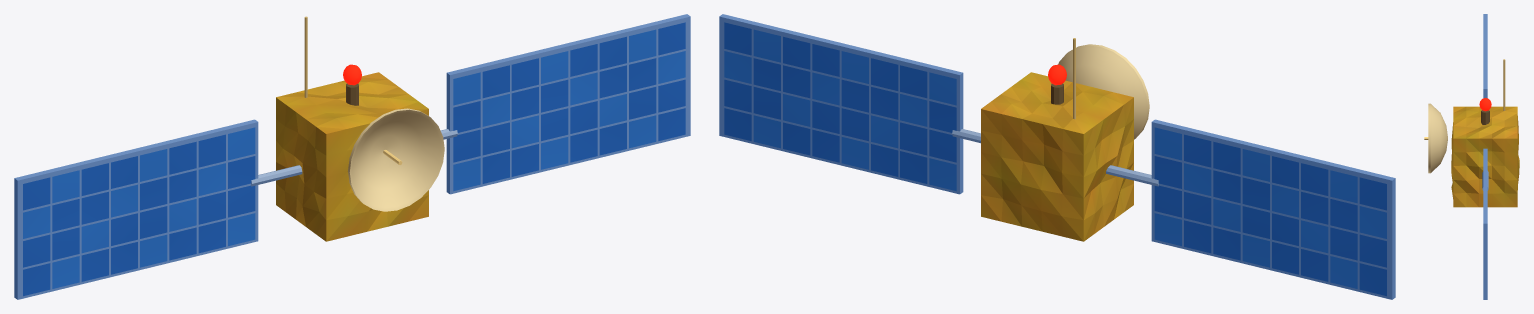
The model's file is satelite.glb.
3 views of the same model, side by side, from view 1: azimuth 30°, elevation 25°; view 2: azimuth 150°, elevation 25°; view 3: azimuth 270°, elevation 25° (orthographic). The views are drawn at different scales.
Visible parts, largest first — view 1: Satélite • panel 0, Satélite • panel 1, Satélite • foil y antenas; view 2: Satélite • panel 0, Satélite • panel 1, Satélite • foil y antenas; view 3: Satélite • foil y antenas, Satélite • panel 1, Satélite • panel 0, Satélite • baliza.
Boxes of the visible parts, x1=… form: Satélite • panel 0: x1=14, y1=119, x2=302, y2=299; Satélite • panel 1: x1=440, y1=14, x2=690, y2=194; Satélite • foil y antenas: x1=276, y1=16, x2=444, y2=241; Satélite • panel 0: x1=1106, y1=119, x2=1395, y2=299; Satélite • panel 1: x1=719, y1=14, x2=980, y2=194; Satélite • foil y antenas: x1=981, y1=38, x2=1149, y2=241; Satélite • foil y antenas: x1=1424, y1=59, x2=1519, y2=207; Satélite • panel 1: x1=1482, y1=148, x2=1488, y2=299; Satélite • panel 0: x1=1483, y1=14, x2=1487, y2=98; Satélite • baliza: x1=1479, y1=98, x2=1491, y2=111.
Bounding box in the file's own units: 8.5 × 2.37 × 1.64.
